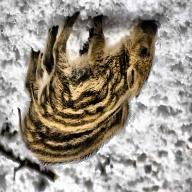boar: (37, 15, 162, 126), (22, 52, 134, 171)
